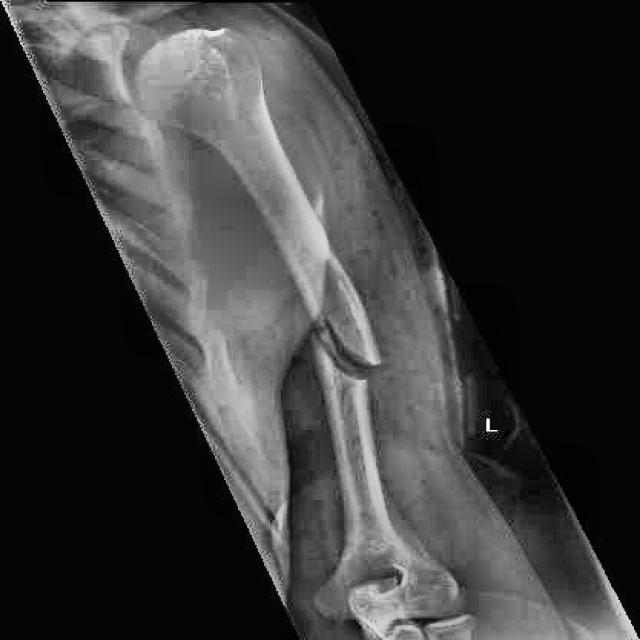humerus: (275, 230, 431, 471)
